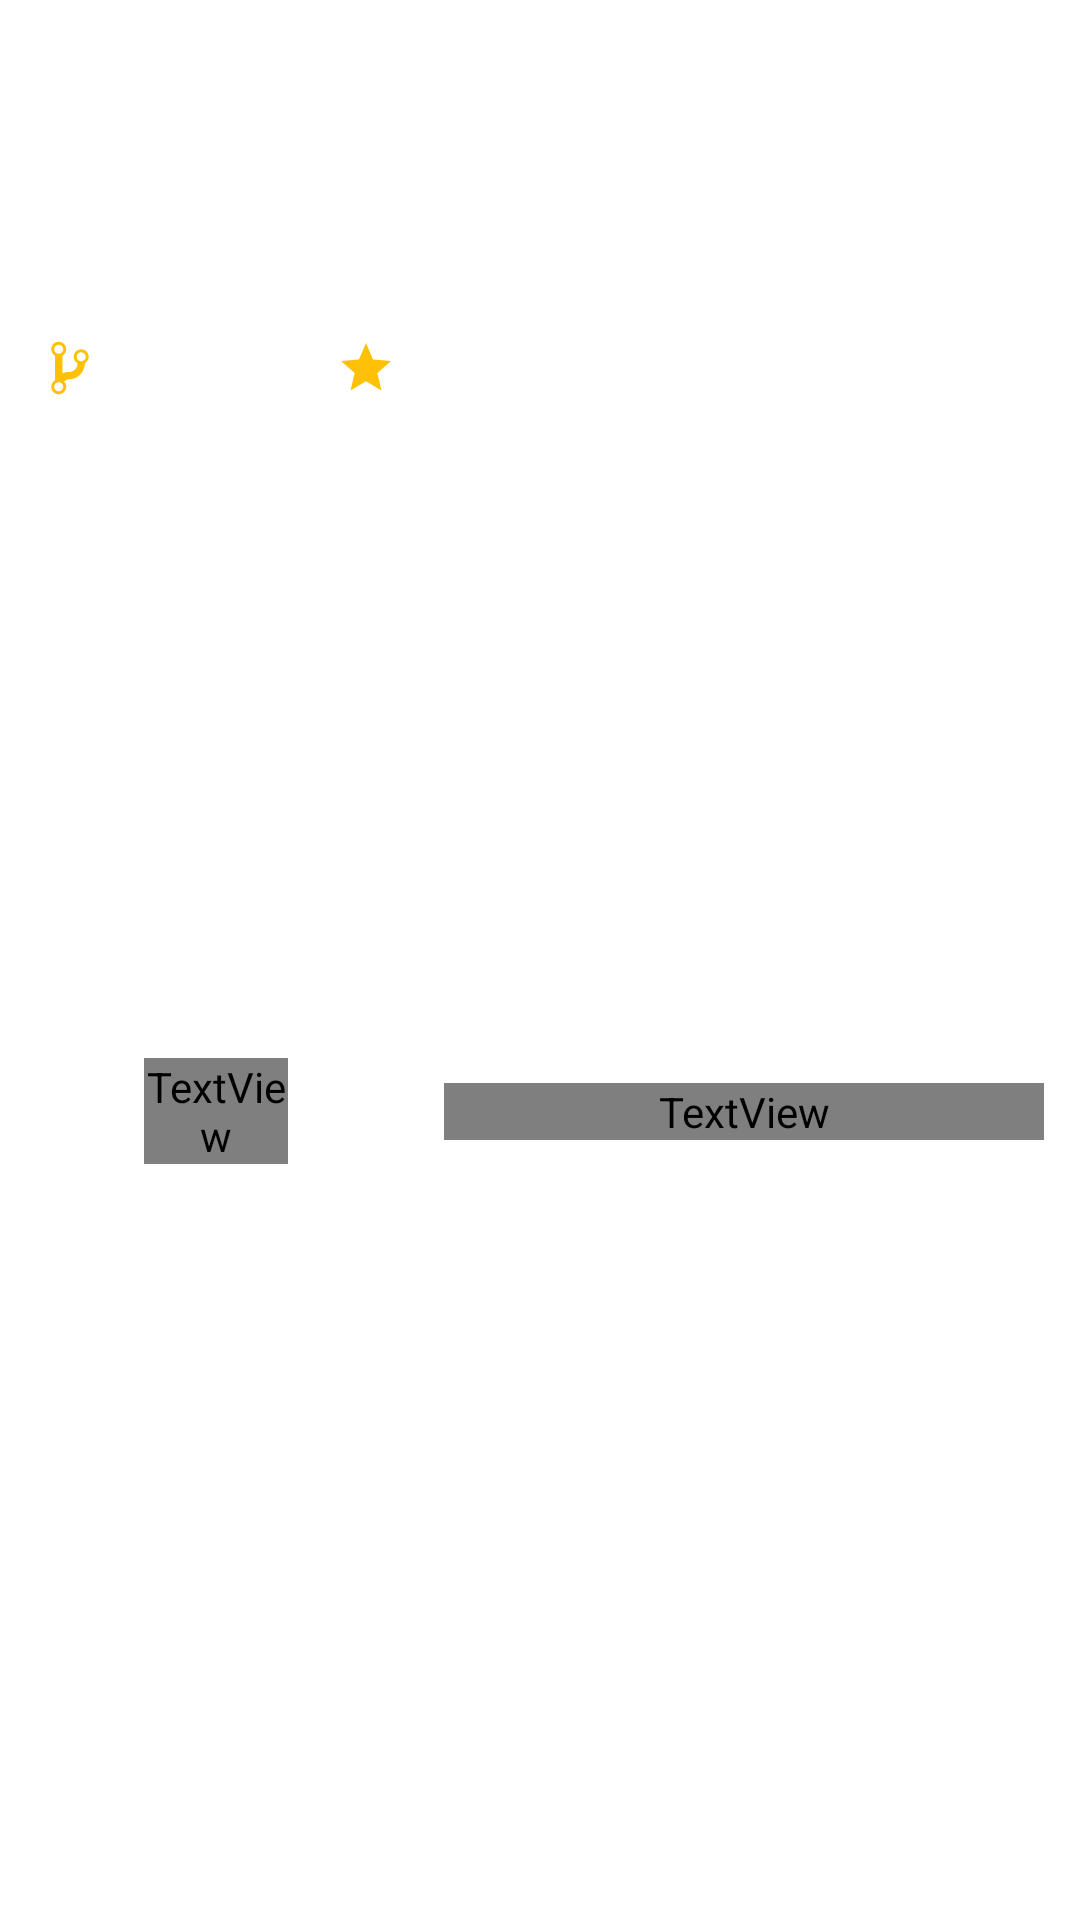

Screen size 1080px×1920px. Icon name, then its box in pixels as (x1, y1, x2, y2):
git branch: (51, 341, 89, 395)
star: (341, 343, 391, 391)
